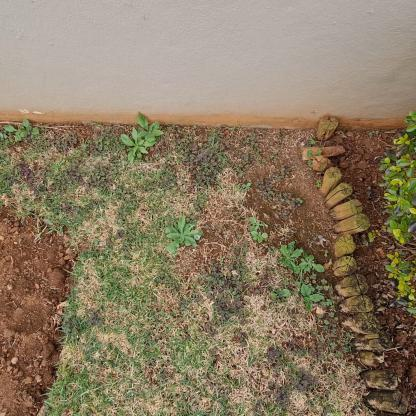Weeds: (165, 216, 203, 256), (121, 127, 156, 163), (135, 112, 163, 144), (278, 242, 303, 274), (297, 249, 326, 276), (299, 283, 326, 311), (19, 118, 39, 138), (3, 125, 25, 143), (269, 286, 291, 302), (248, 217, 264, 233), (251, 229, 267, 243), (242, 182, 251, 191)
